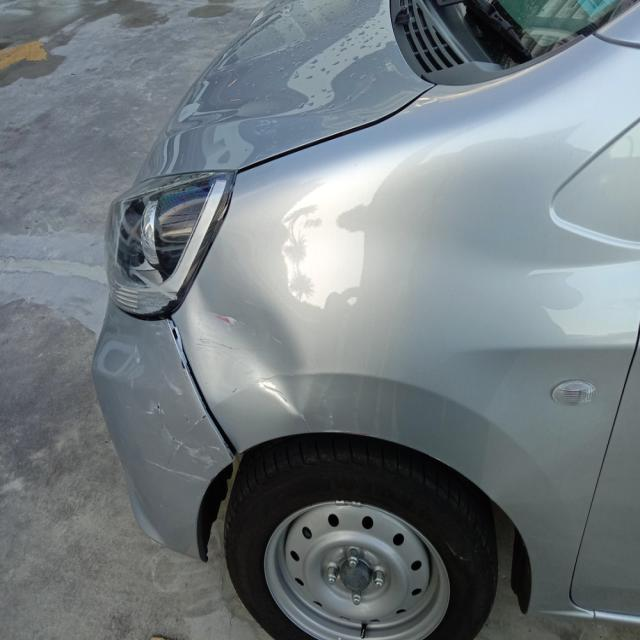dent: (187, 244, 308, 414)
scratch: (145, 328, 219, 484)
